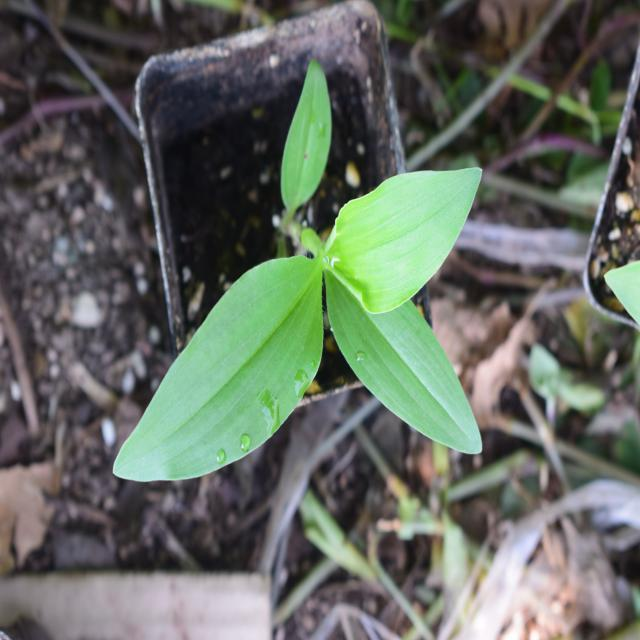Common Dayflower: (107, 130, 492, 500)
